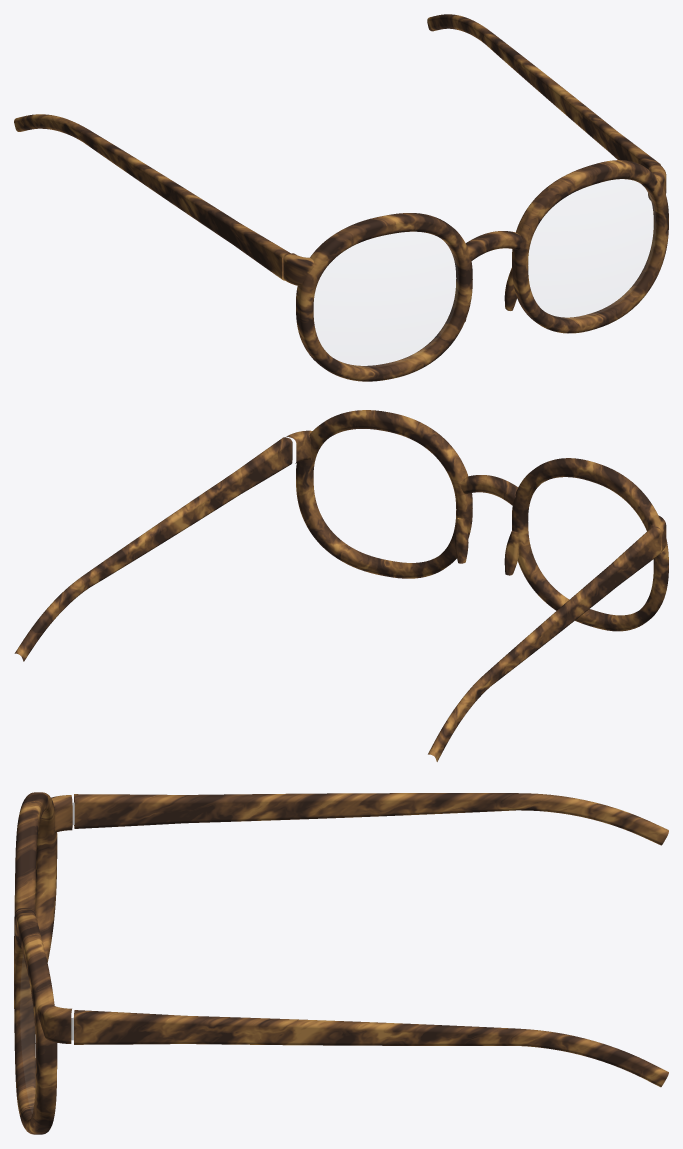
File: r-panto-tort.glb
3 views of the same model, one above another, from view 1: azimuth 30°, elevation 25°; view 2: azimuth 150°, elevation 25°; view 3: azimuth 270°, elevation 25° (orthographic). The views are drawn at different scales.
Visible parts, largest first — view 1: Frame; view 2: Frame; view 3: Frame.
Boxes of the visible parts, bbox=[...] form: Frame: bbox=[14, 14, 668, 381]; Frame: bbox=[14, 410, 668, 761]; Frame: bbox=[14, 792, 668, 1134].
Bounding box in the file's own units: 141 × 51.4 × 158.
3 materials, 1 textured.
